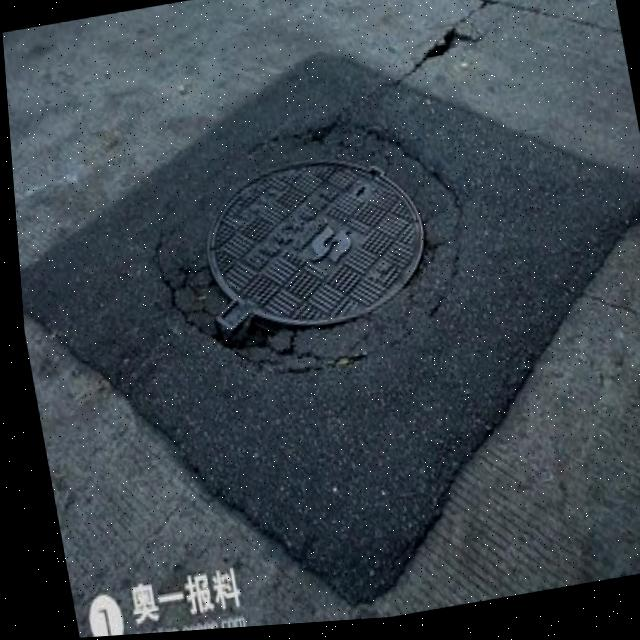manhole: (145, 109, 462, 395)
